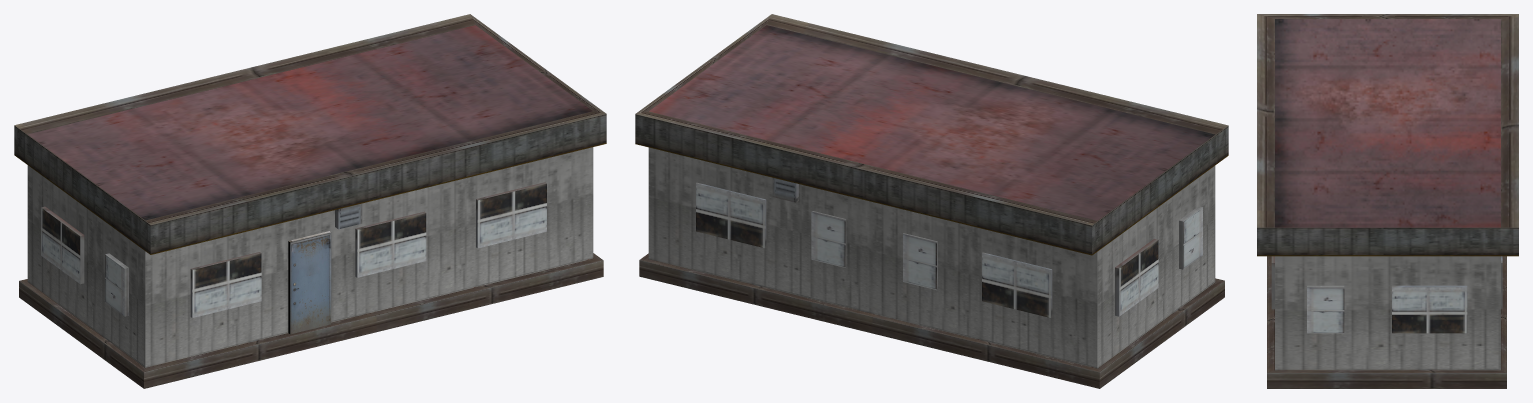
Rendered from dz_industrial_13.fbx.
3 renders of one model, left to right at view 1: azimuth 30°, elevation 25°; view 2: azimuth 150°, elevation 25°; view 3: azimuth 270°, elevation 25°, orthographic. The views are drawn at different scales.
Visible parts, largest first — view 1: dz_industrial_13_LOD0; view 2: dz_industrial_13_LOD0; view 3: dz_industrial_13_LOD0.
Boxes of the visible parts, bbox=[...] form: dz_industrial_13_LOD0: bbox=[14, 14, 606, 388]; dz_industrial_13_LOD0: bbox=[635, 14, 1228, 388]; dz_industrial_13_LOD0: bbox=[1257, 14, 1518, 388].
Size of what is drawn, in the model's own units: 11.28 by 3.93 by 5.8.
